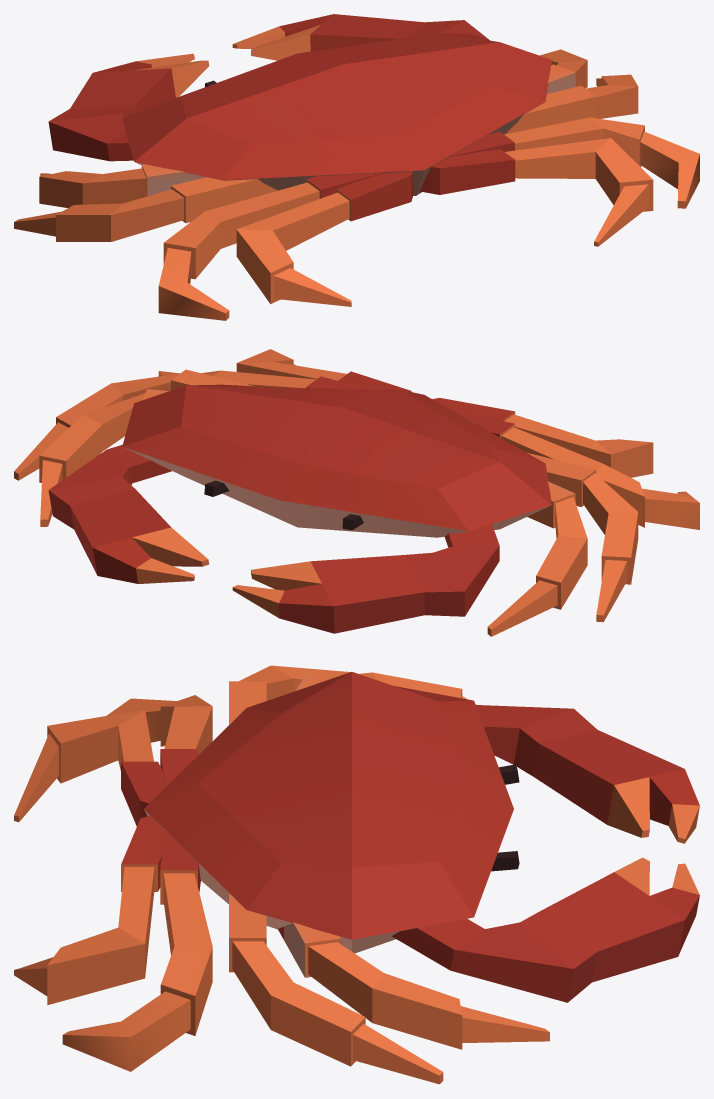
Rendered from crab.glb.
3 views of the same model, one above another, from view 1: azimuth 30°, elevation 25°; view 2: azimuth 150°, elevation 25°; view 3: azimuth 270°, elevation 25° (orthographic). The views are drawn at different scales.
Parts seen in each view (by area): view 1: Geo_Crab; view 2: Geo_Crab; view 3: Geo_Crab.
Part boxes in pixels (x1,y1,x2,y2): Geo_Crab: (14, 14, 699, 320); Geo_Crab: (14, 349, 699, 636); Geo_Crab: (14, 665, 699, 1084).
Size of the model in its own units: 0.25 by 0.0484 by 0.1964.
Materials: 1 (1 with a texture image).
